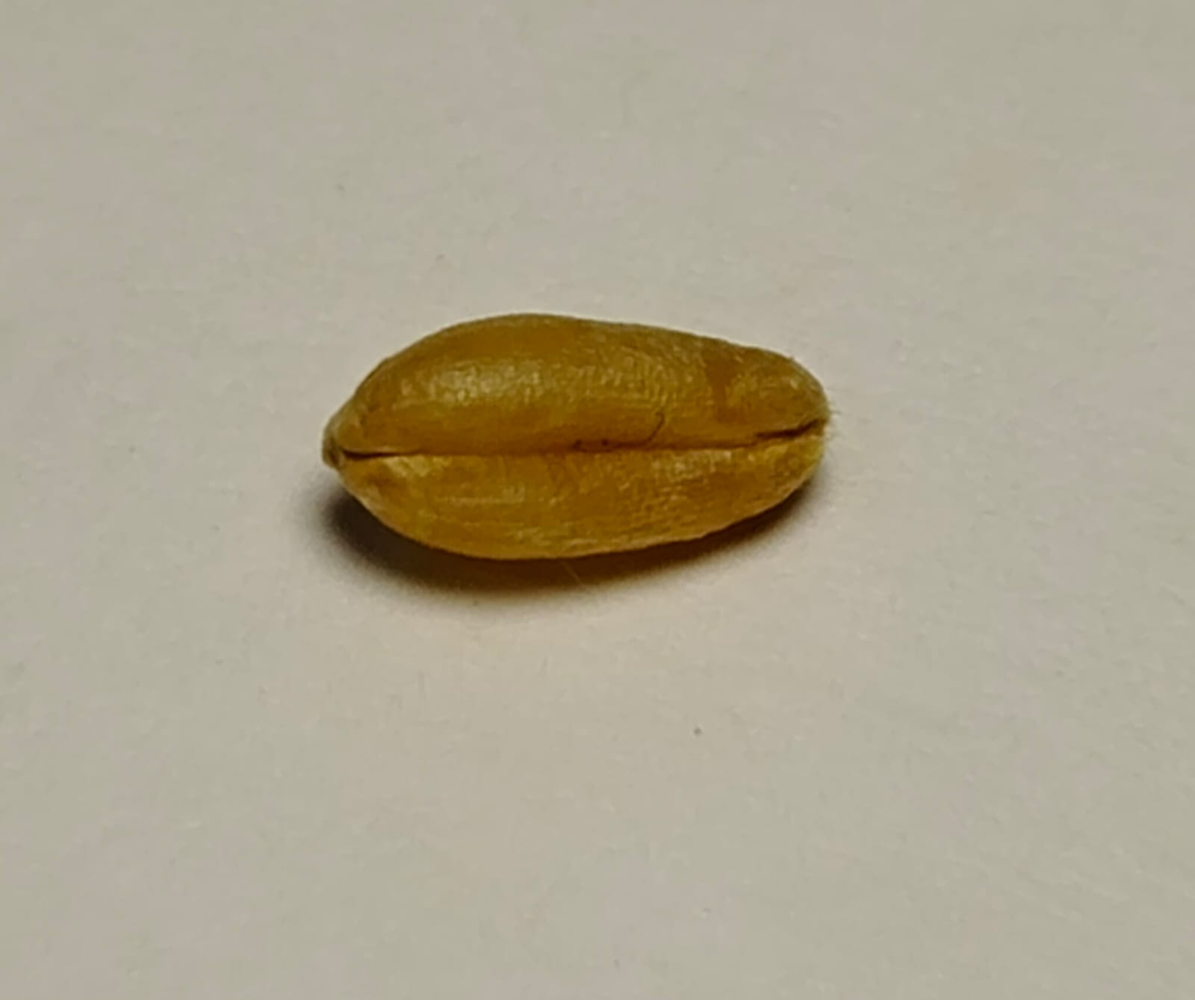healthy: (324, 314, 828, 559)
